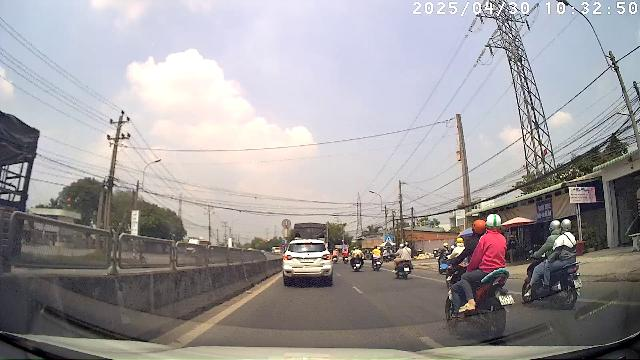423a-duong-nguoi-di-bo-sang-ngang-1: (385, 234, 393, 242)
